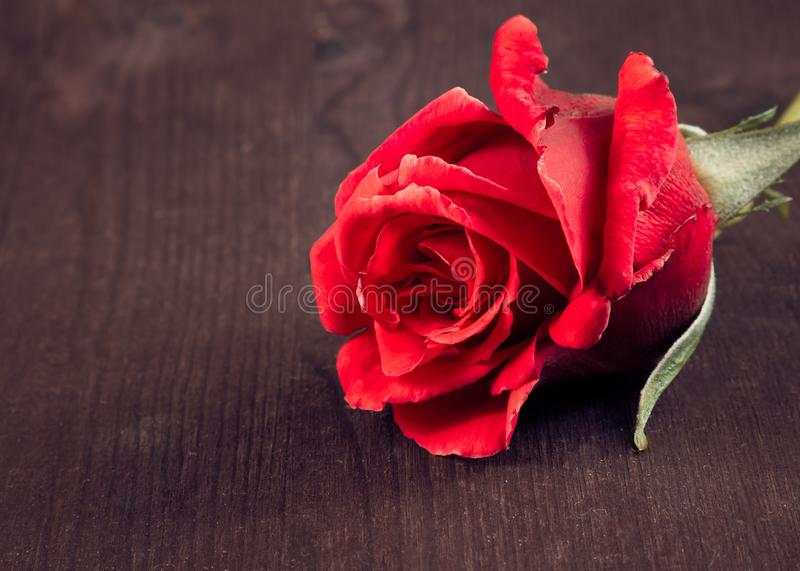RedRose: (303, 4, 729, 466)
